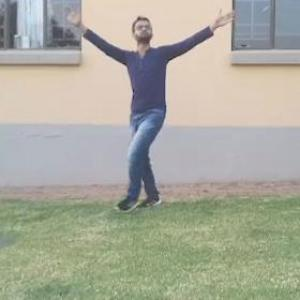takeoff: (58, 3, 227, 221)
